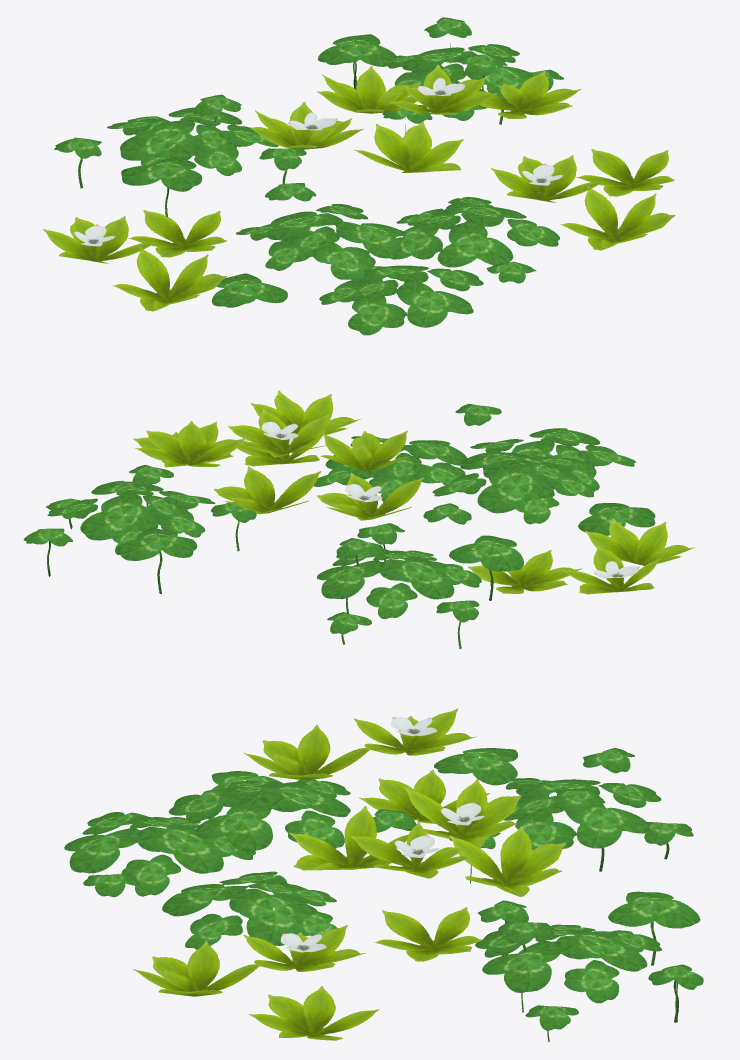
File: WhiteFlower_CloverShape.fbx
3 renders of one model, top to bottom at view 1: azimuth 30°, elevation 25°; view 2: azimuth 150°, elevation 25°; view 3: azimuth 270°, elevation 25°, orthographic. The views are drawn at different scales.
Visible parts, largest first — view 1: WhiteFlower_Clover; view 2: WhiteFlower_Clover; view 3: WhiteFlower_Clover.
Part boxes in pixels (box(x1,y1,x2,y2)): WhiteFlower_Clover: box(43, 17, 675, 335); WhiteFlower_Clover: box(23, 390, 696, 648); WhiteFlower_Clover: box(64, 708, 703, 1042).
Bounding box in the file's own units: 106 × 93.68 × 16.53.
